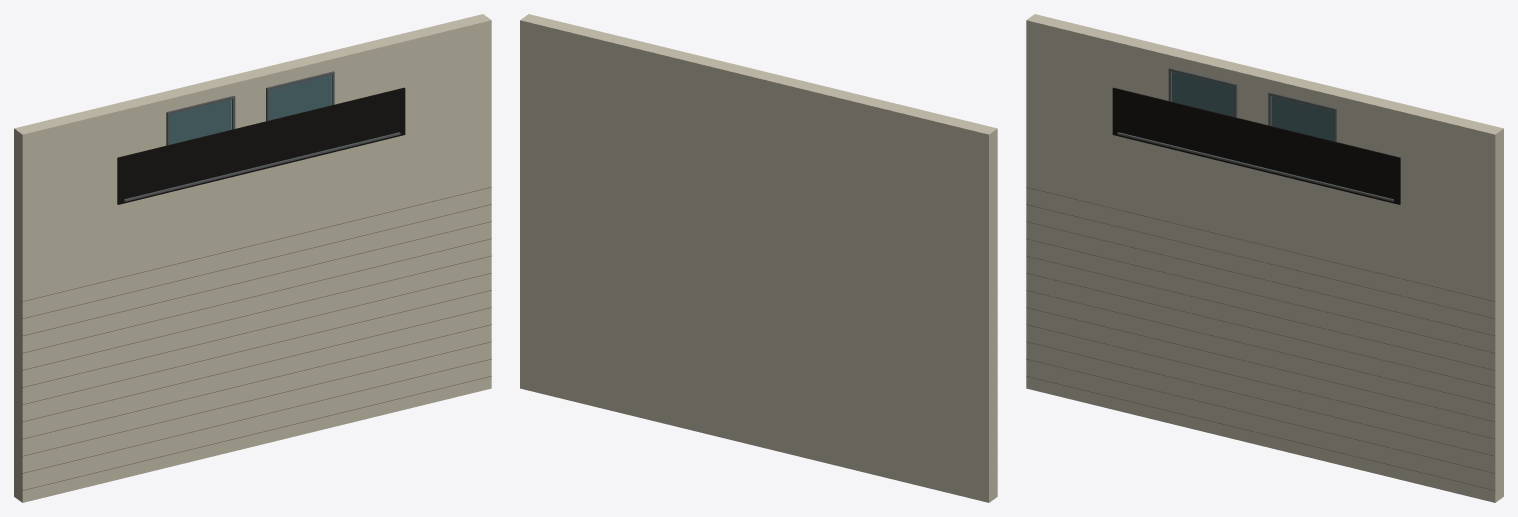
Rendered from Chữ mica sáng hắt chân.obj.
3 views of the same model, side by side, from view 1: azimuth 30°, elevation 25°; view 2: azimuth 150°, elevation 25°; view 3: azimuth 330°, elevation 25° (orthographic).
Visible parts, largest first — view 1: khoi_tuong, nen_sau_chu_coffee_tea, kinh_tren_trai, kinh_tren_phai, thanh_lap_dat_tren, mach_gach_2, mach_gach_8, mach_gach_1, mach_gach_9, mach_gach_12, mach_gach_3, mach_gach_4 (+5 smaller); view 2: khoi_tuong; view 3: khoi_tuong, nen_sau_chu_coffee_tea, kinh_tren_phai, kinh_tren_trai, thanh_lap_dat_tren, mach_gach_2, mach_gach_8, mach_gach_1, mach_gach_9, mach_gach_12, mach_gach_3, mach_gach_4 (+5 smaller).
Boxes of the visible parts, x1,y1,x2,y2 form: khoi_tuong: (14,14,491,502); nen_sau_chu_coffee_tea: (117,87,405,204); kinh_tren_trai: (169,99,231,144); kinh_tren_phai: (269,75,331,120); thanh_lap_dat_tren: (124,132,400,201); mach_gach_2: (22,358,491,473); mach_gach_8: (22,255,491,370); mach_gach_1: (22,376,491,490); mach_gach_9: (23,238,491,353); mach_gach_12: (22,187,491,301); mach_gach_3: (23,341,491,456); mach_gach_4: (23,324,491,438); khoi_tuong: (520,14,997,502); khoi_tuong: (1026,14,1503,502); nen_sau_chu_coffee_tea: (1112,87,1400,204); kinh_tren_phai: (1271,96,1333,141); kinh_tren_trai: (1172,72,1233,116); thanh_lap_dat_tren: (1117,132,1393,201); mach_gach_2: (1026,358,1495,473); mach_gach_8: (1026,255,1495,370); mach_gach_1: (1026,376,1495,490); mach_gach_9: (1026,238,1494,353); mach_gach_12: (1026,187,1495,301); mach_gach_3: (1026,341,1494,456); mach_gach_4: (1026,324,1494,438).
Size of the model in its own units: 8 by 6 by 0.419.
